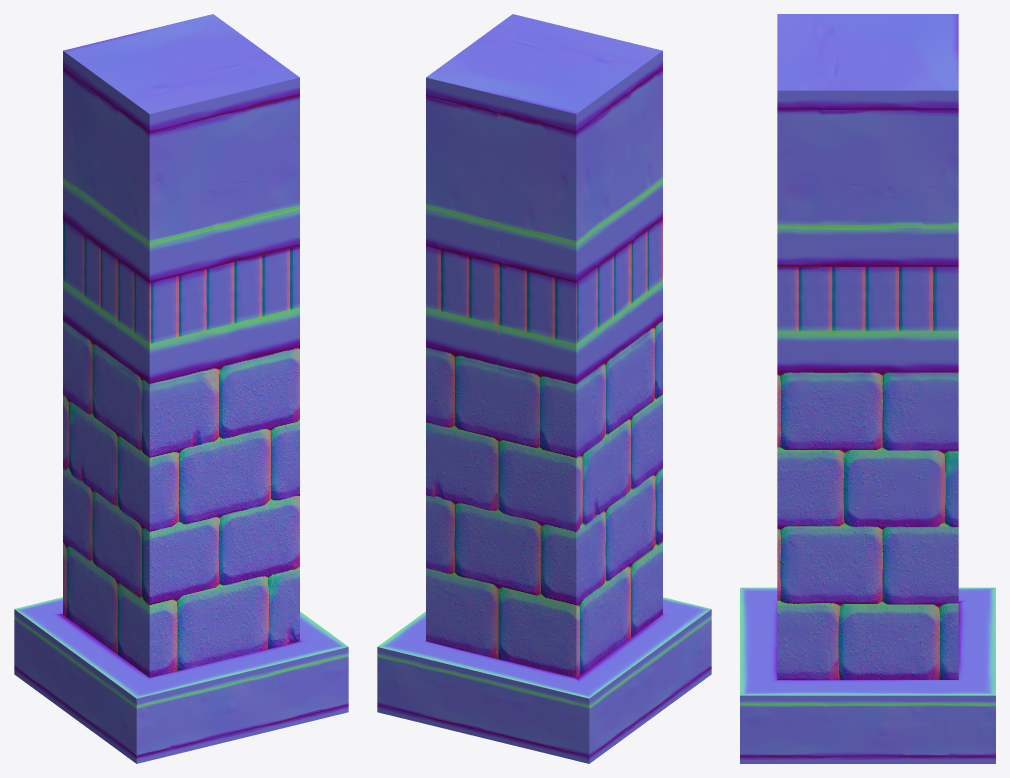
File: WallPillar.fbx
3 views of the same model, side by side, from view 1: azimuth 30°, elevation 25°; view 2: azimuth 150°, elevation 25°; view 3: azimuth 270°, elevation 25° (orthographic). The views are drawn at different scales.
Visible parts, largest first — view 1: Pillar; view 2: Pillar; view 3: Pillar.
Boxes of the visible parts, x1,y1,x2,y2 form: Pillar: (14, 14, 348, 763); Pillar: (377, 14, 711, 763); Pillar: (740, 14, 995, 763).
Size of the model in its own units: 254 by 720 by 254.
1 material, 1 textured.
